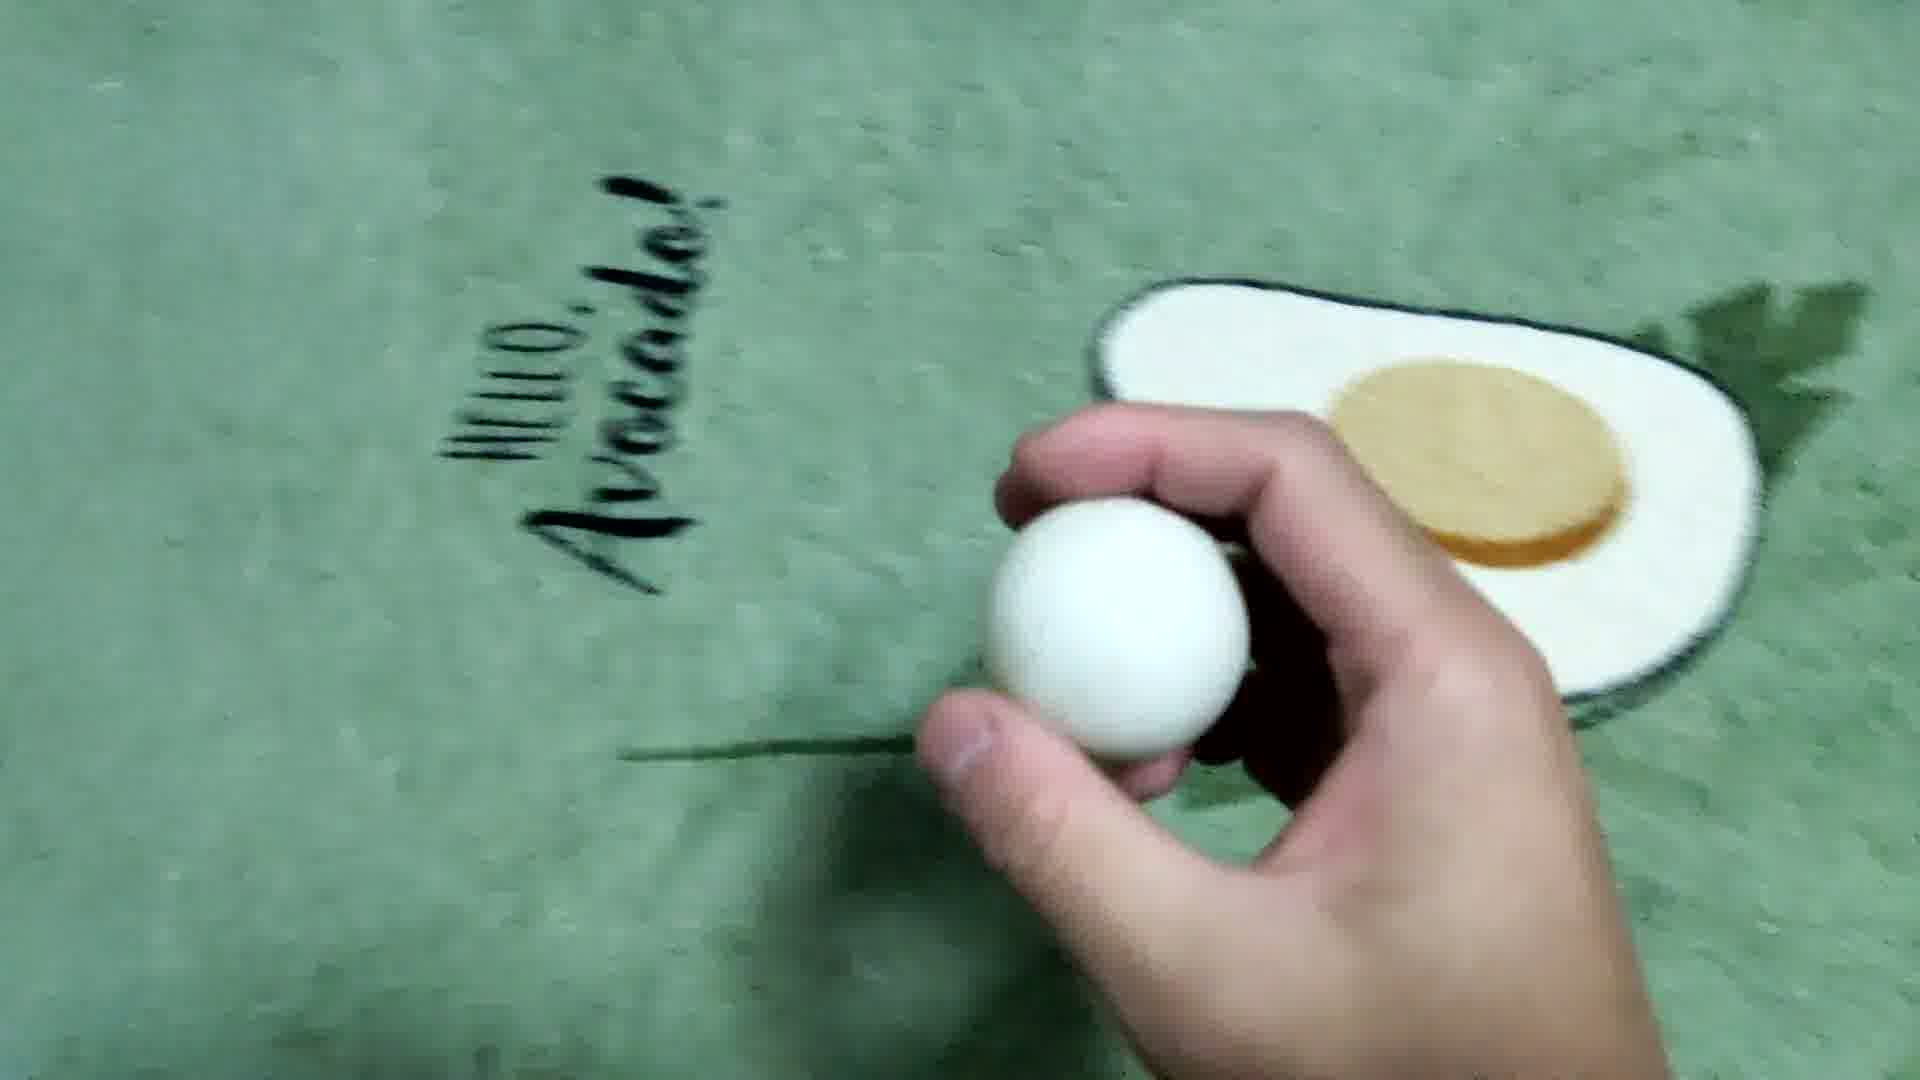Ball: (992, 498, 1244, 758)
